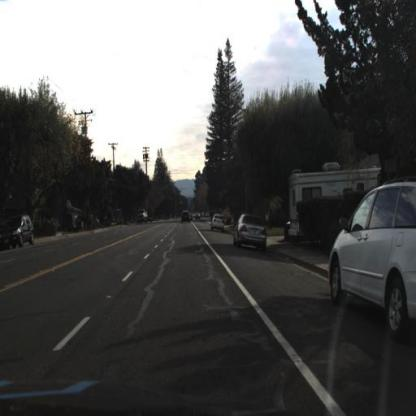car: (329, 178, 416, 343), (1, 212, 38, 248), (235, 212, 267, 251), (212, 212, 226, 232)
truck: (286, 170, 388, 243)
